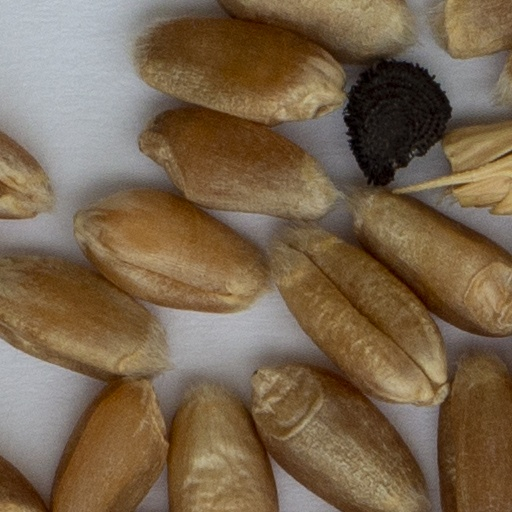Agrostemma-poly: (343, 60, 453, 185)
Peel-poly: (386, 117, 511, 216)
Wheat-grain-poly: (248, 365, 433, 511), (50, 380, 166, 511), (167, 383, 277, 511), (434, 350, 511, 511), (0, 130, 52, 220)
